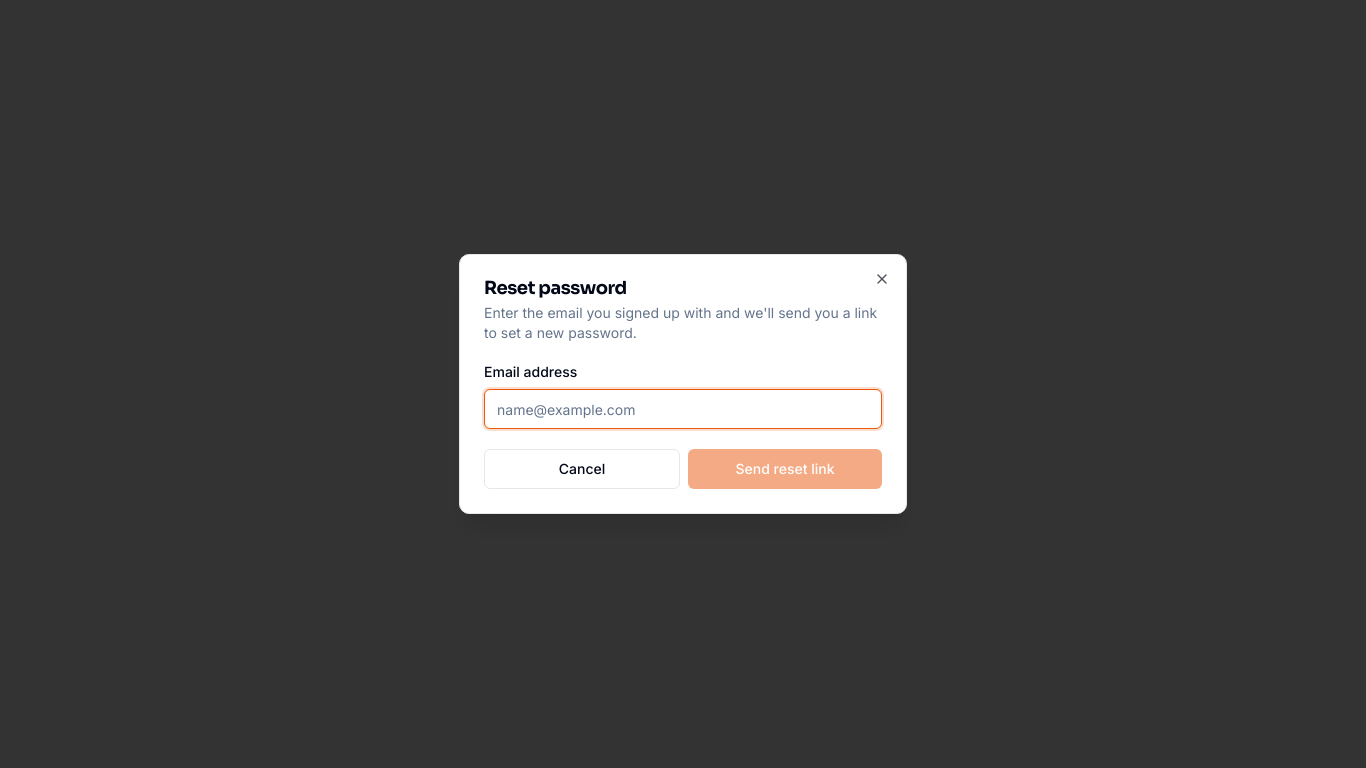
Scenario: ForgotPasswordModal › shows the Supabase error message when the request fails
Step 1. Type "jane@x.com" into the field labelled "Email address" → (683, 409), box [484,389,882,429]
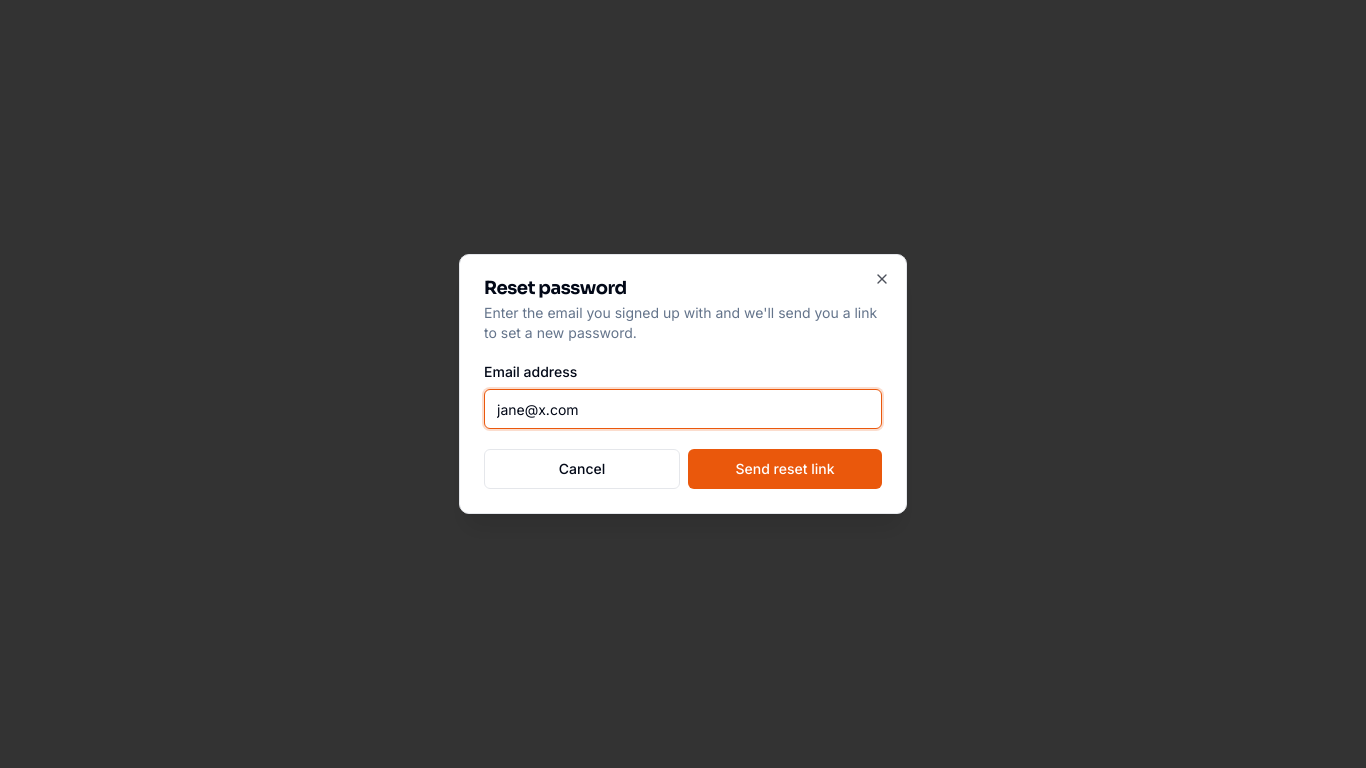
Step 2. Click the button "Send reset link" → (785, 469), box [688,449,882,489]
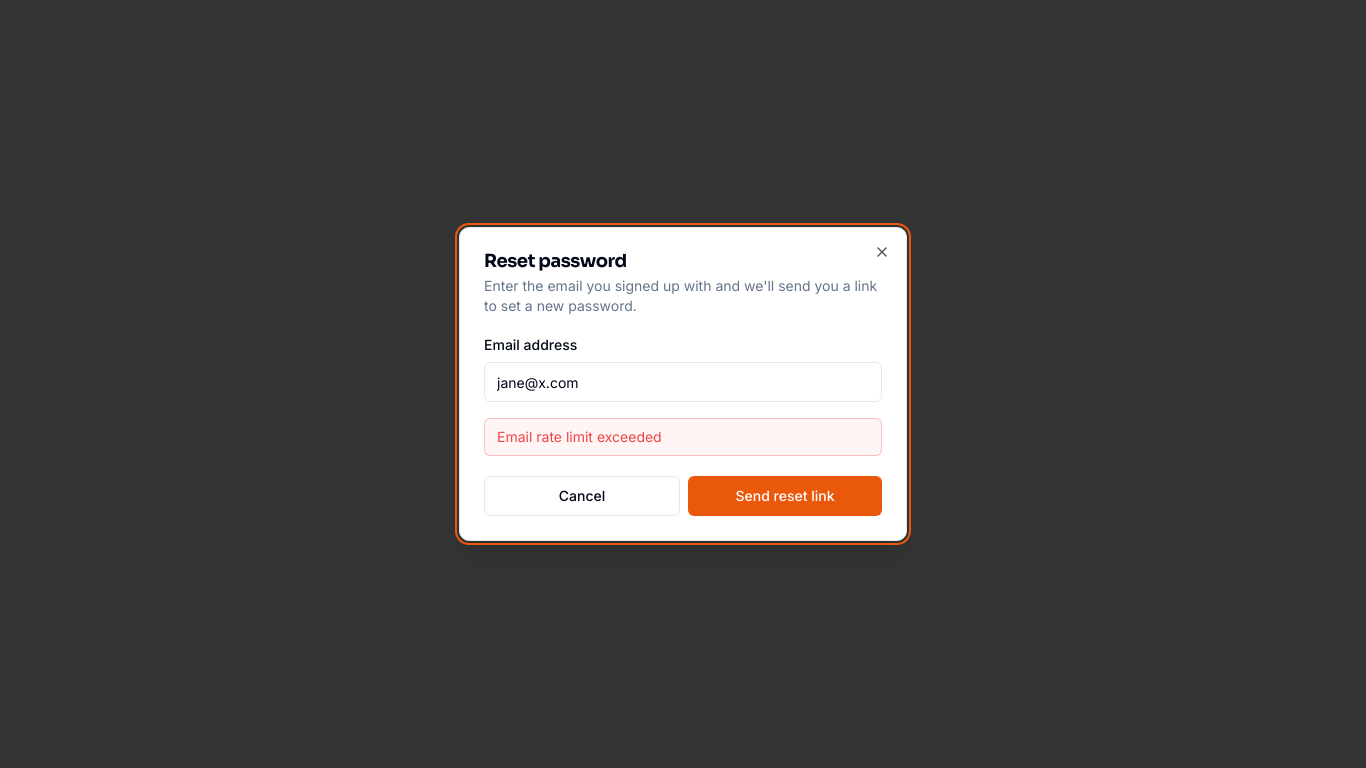
Check: the text "Email rate limit exceeded" is shown, box [484,418,882,456]
